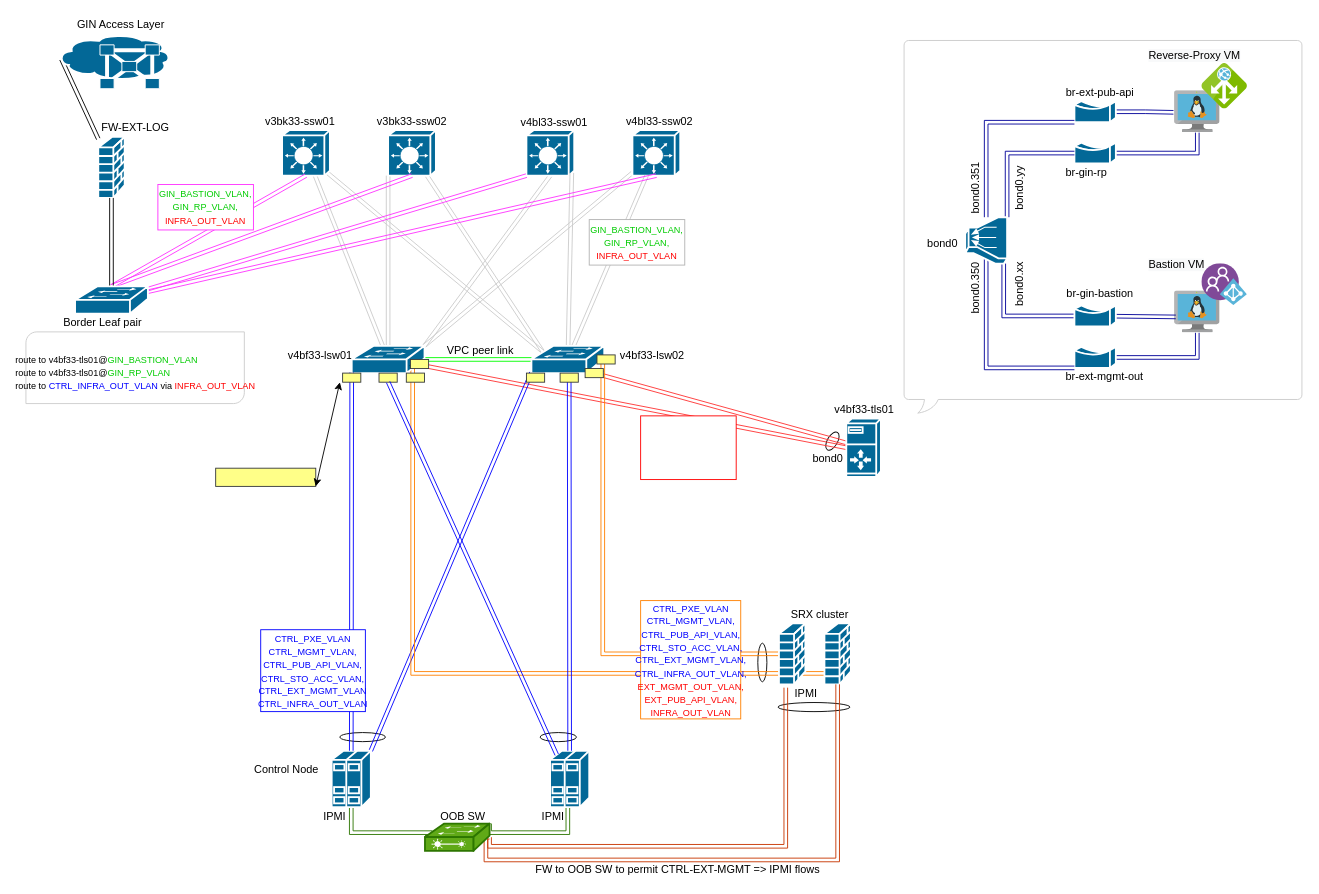
Some shapes in this 1319 by 894 pixel diagram are drawn without their labels. The shapes that lost their labels are listed below. From the top down, each one's centre as x and y in pixels, then its label:
At point (688, 447): "EXT_MGMT_OUT_VLAN, EXT_PUB_API_VLAN, GIN_bastion_VLAN, GIN_RP_VLAN".
At point (265, 476): "vPC member ports".
